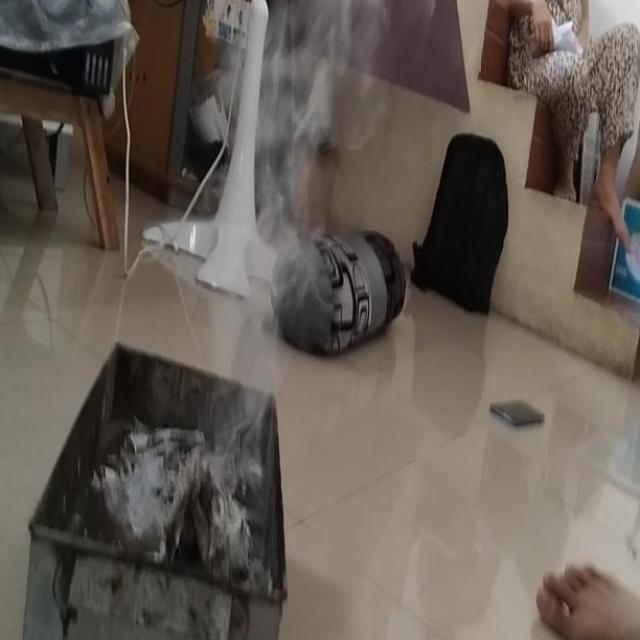fire: (242, 0, 378, 251), (218, 319, 282, 472)
